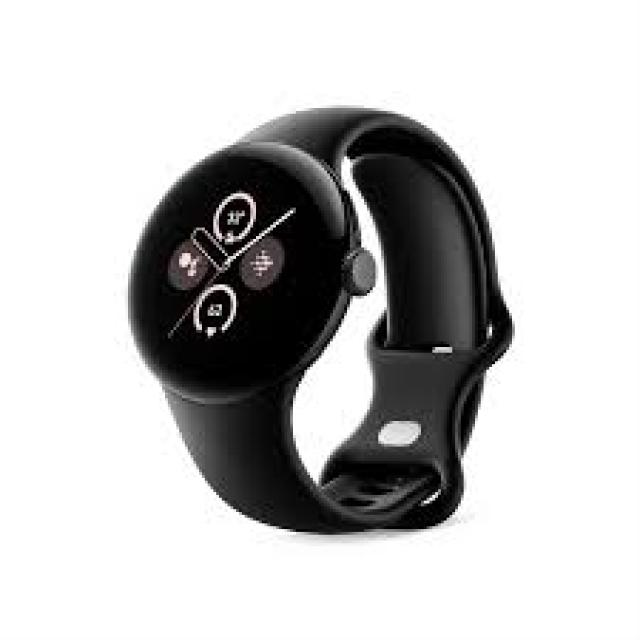objects: (127, 102, 509, 534)
